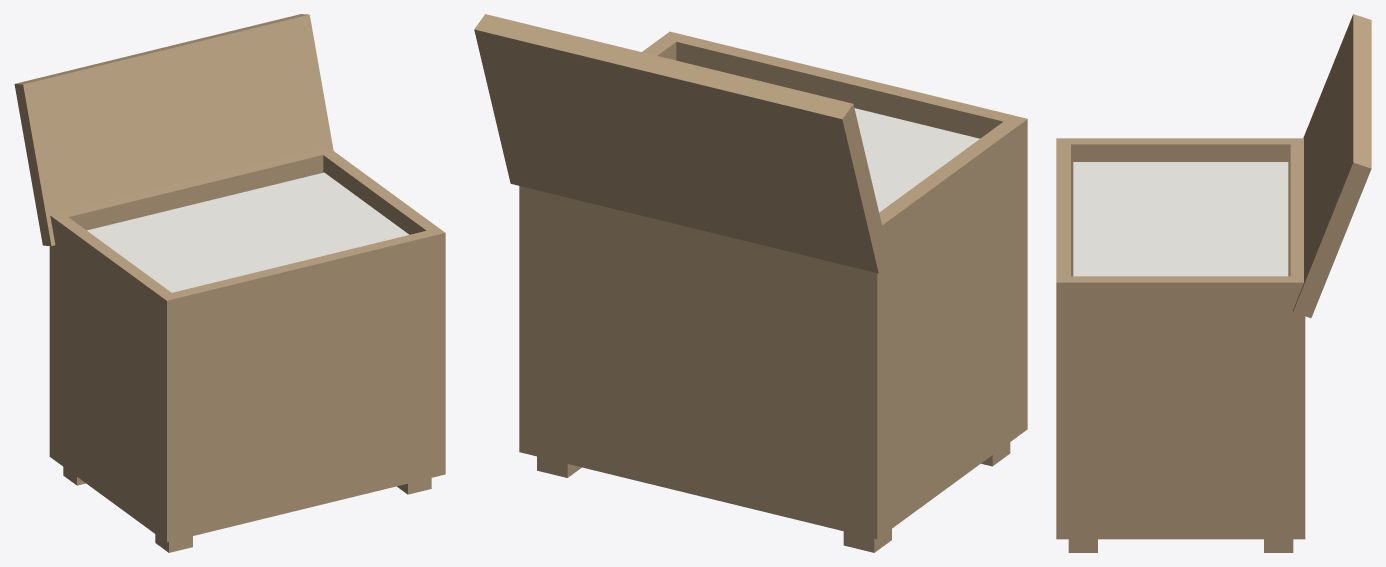
The model's file is prop-flour-bin.fbx.
The picture shows the model from 3 angles, left to right: view 1: azimuth 30°, elevation 25°; view 2: azimuth 150°, elevation 25°; view 3: azimuth 270°, elevation 25°; orthographic projection. The views are drawn at different scales.
Parts seen in each view (by area): view 1: prop-flour-bin; view 2: prop-flour-bin; view 3: prop-flour-bin.
Part boxes in pixels (bbox=[...]): prop-flour-bin: bbox=[14, 14, 445, 552]; prop-flour-bin: bbox=[474, 14, 1027, 552]; prop-flour-bin: bbox=[1056, 14, 1371, 552].
Size of the model in its own units: 72 by 89.59 by 64.55.
